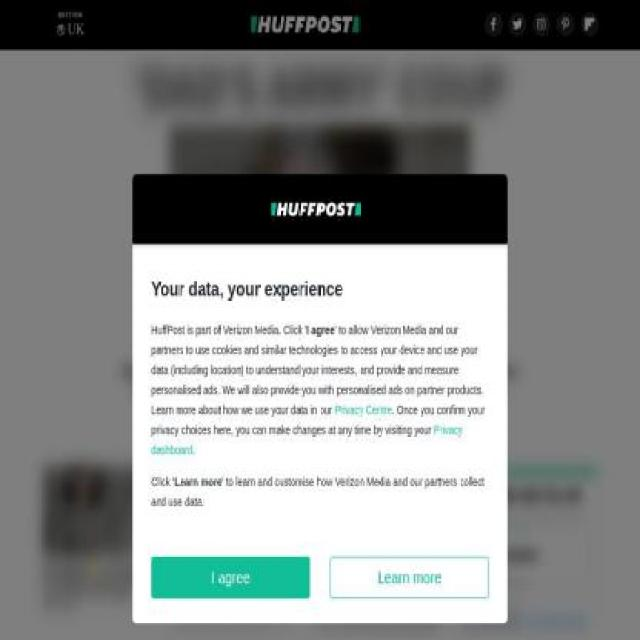button: (330, 557, 490, 598), (152, 557, 310, 598), (271, 201, 360, 217)
